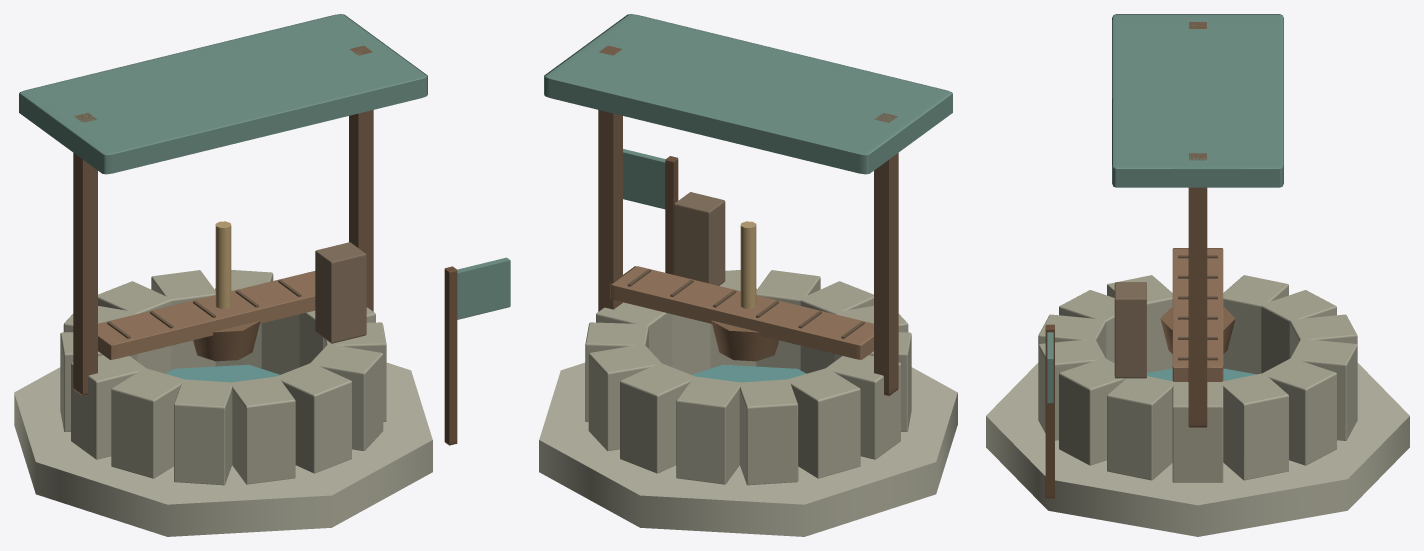
Rendered from oldwell-1.glb.
3 views of the same model, side by side, from view 1: azimuth 30°, elevation 25°; view 2: azimuth 150°, elevation 25°; view 3: azimuth 270°, elevation 25° (orthographic). The views are drawn at different scales.
Visible parts, largest first — view 1: oldwell-1-0, landmark-restored, landmark-ruin; view 2: oldwell-1-0, landmark-restored, landmark-ruin; view 3: oldwell-1-0, landmark-restored, landmark-ruin.
Part boxes in pixels (x1=…): oldwell-1-0: x1=14, y1=270, x2=432, y2=536; landmark-restored: x1=19, y1=14, x2=510, y2=445; landmark-ruin: x1=98, y1=242, x2=366, y2=359; oldwell-1-0: x1=539, y1=270, x2=957, y2=536; landmark-restored: x1=544, y1=14, x2=952, y2=396; landmark-ruin: x1=610, y1=192, x2=873, y2=359; oldwell-1-0: x1=986, y1=275, x2=1409, y2=536; landmark-restored: x1=1045, y1=14, x2=1283, y2=498; landmark-ruin: x1=1114, y1=248, x2=1223, y2=381.
Size of the model in its own units: 1.68 by 1.46 by 1.58.
